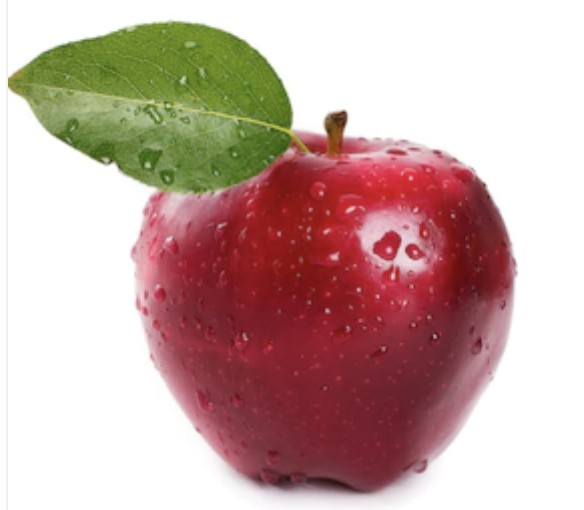fresh_apple: (136, 120, 527, 493)
